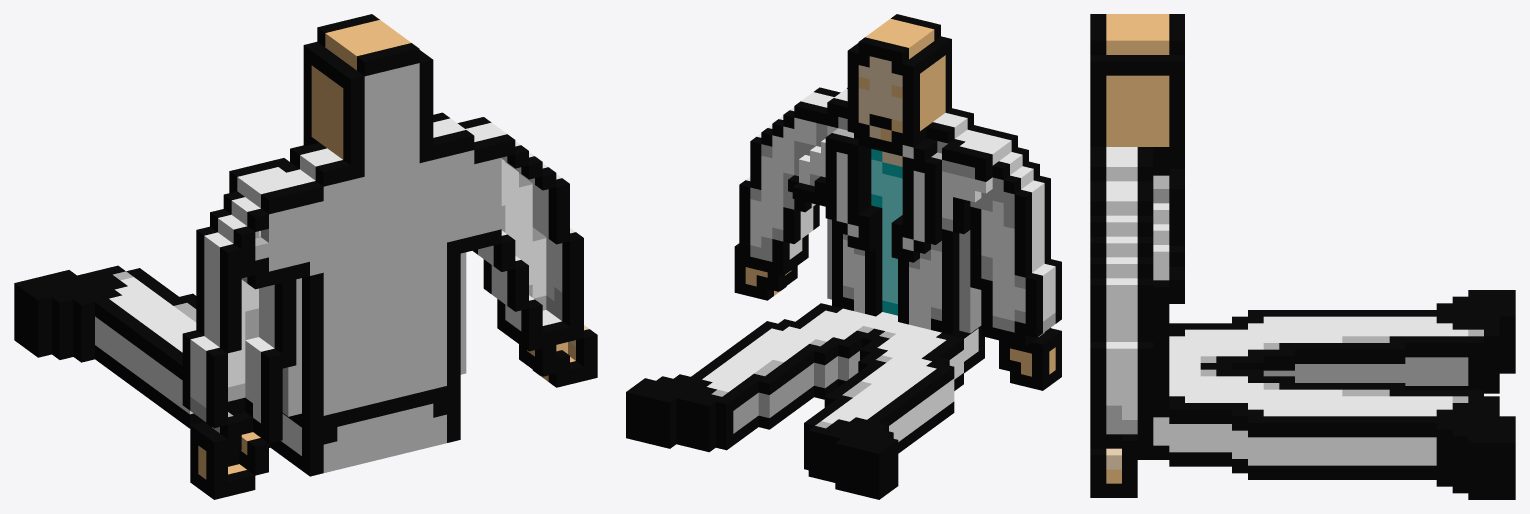
The model's file is EnemyWall.obj.
3 renders of one model, left to right at view 1: azimuth 30°, elevation 25°; view 2: azimuth 150°, elevation 25°; view 3: azimuth 270°, elevation 25°, orthographic. The views are drawn at different scales.
Visible parts, largest first — view 1: EnemyWall.001; view 2: EnemyWall.001; view 3: EnemyWall.001.
Part boxes in pixels (box(x1,y1,x2,y2)): EnemyWall.001: box(14, 14, 597, 499); EnemyWall.001: box(626, 14, 1061, 499); EnemyWall.001: box(1090, 14, 1515, 499).
Bounding box in the file's own units: 2.8 × 2.8 × 2.7.
1 material, 1 textured.
